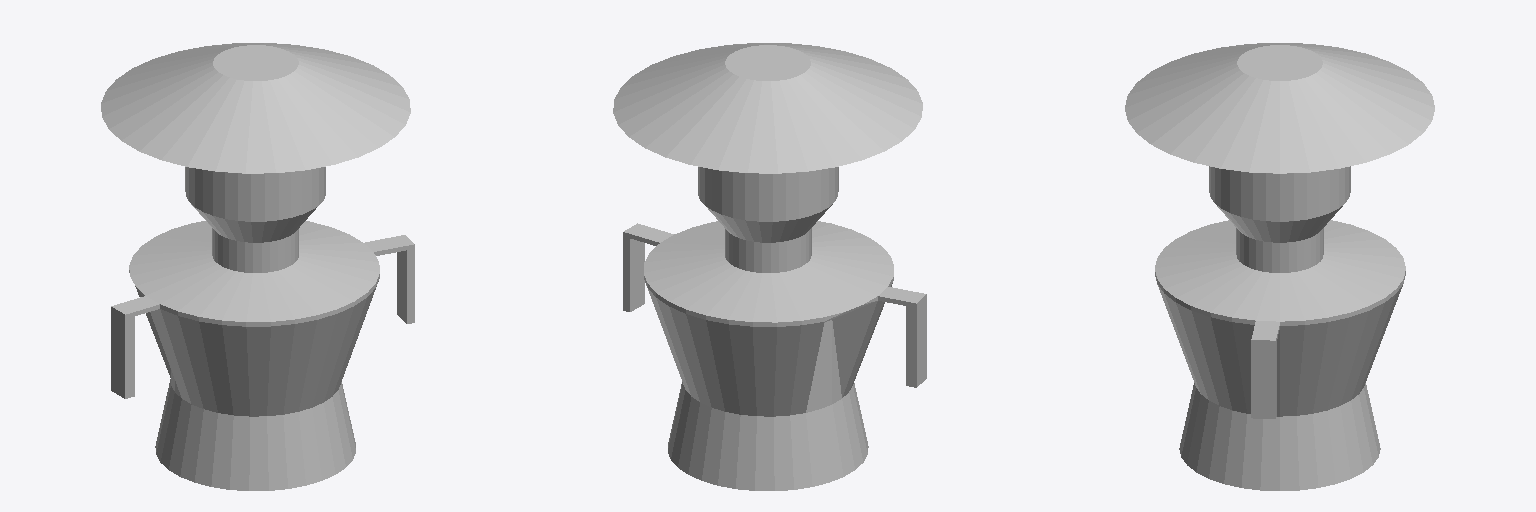
The model's file is magician.obj.
The picture shows the model from 3 angles: view 1: azimuth 30°, elevation 25°; view 2: azimuth 150°, elevation 25°; view 3: azimuth 270°, elevation 25°; orthographic projection.
Parts seen in each view (by area): view 1: Cylinder; view 2: Cylinder; view 3: Cylinder.
Boxes of the visible parts, box(x1,y1,x2,y2) form: Cylinder: box(101, 43, 414, 490); Cylinder: box(613, 43, 926, 490); Cylinder: box(1125, 43, 1434, 490).
Size of the model in its own units: 3.97 by 4.98 by 3.63.